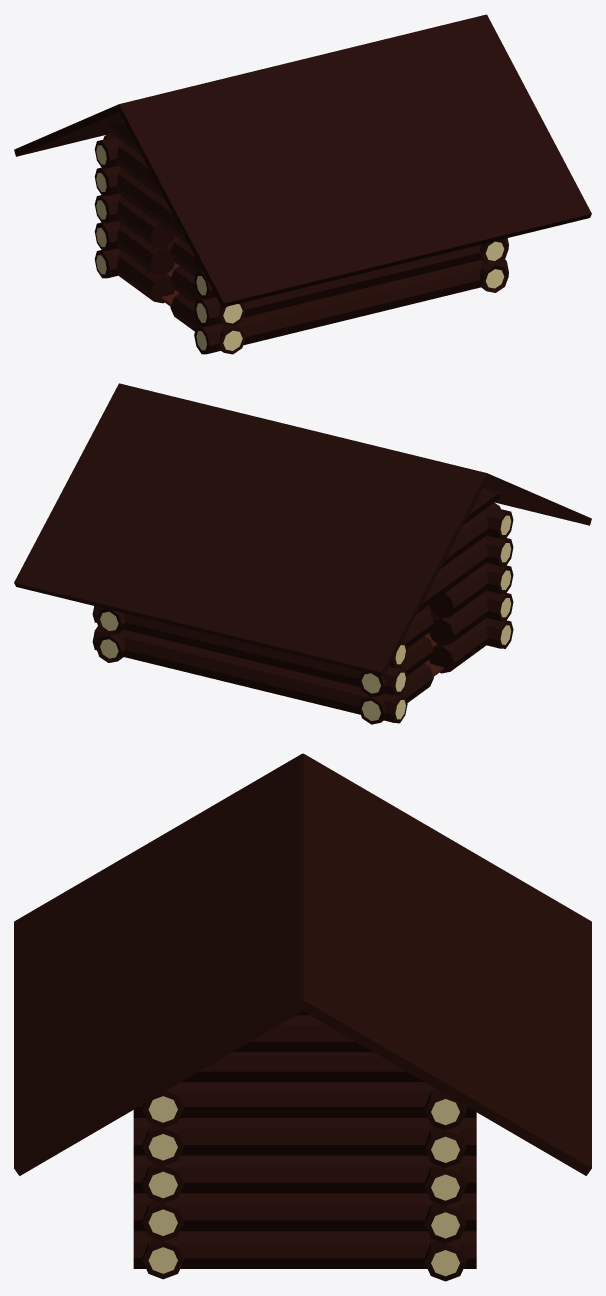
The model's file is log cabin.fbx.
The picture shows the model from 3 angles, top to bottom: view 1: azimuth 30°, elevation 25°; view 2: azimuth 150°, elevation 25°; view 3: azimuth 270°, elevation 25°; orthographic projection. The views are drawn at different scales.
Visible parts, largest first — view 1: Cube.002, Cylinder.004, Cylinder.001, Cylinder.003, Cube.001, Cylinder, Cylinder.002, Cylinder.006; view 2: Cube.001, Cylinder.003, Cylinder.001, Cylinder.004, Cube.002, Cylinder, Cylinder.002, Cylinder.006; view 3: Cube.001, Cube.002, Cylinder, Cylinder.003, Cylinder.004, Cylinder.011, Cylinder.012.
Part boxes in pixels (bbox=[...]): Cube.002: bbox=[119, 15, 591, 307]; Cylinder.004: bbox=[194, 238, 508, 354]; Cylinder.001: bbox=[103, 132, 245, 354]; Cylinder.003: bbox=[94, 137, 179, 278]; Cube.001: bbox=[14, 14, 486, 156]; Cylinder: bbox=[479, 239, 508, 292]; Cylinder.002: bbox=[150, 176, 173, 233]; Cylinder.006: bbox=[103, 119, 141, 155]; Cube.001: bbox=[14, 383, 488, 676]; Cylinder.003: bbox=[92, 606, 407, 723]; Cylinder.001: bbox=[358, 502, 500, 724]; Cylinder.004: bbox=[424, 507, 513, 648]; Cube.002: bbox=[119, 383, 591, 525]; Cylinder: bbox=[95, 608, 125, 662]; Cylinder.002: bbox=[430, 547, 454, 603]; Cylinder.006: bbox=[464, 488, 500, 524]; Cube.001: bbox=[298, 753, 591, 1175]; Cube.002: bbox=[14, 753, 307, 1175]; Cylinder: bbox=[133, 1082, 476, 1268]; Cylinder.003: bbox=[424, 1088, 466, 1281]; Cylinder.004: bbox=[142, 1087, 183, 1279]; Cylinder.011: bbox=[181, 1052, 424, 1082]; Cylinder.012: bbox=[233, 1015, 372, 1052].
Size of the model in its own units: 2803 by 1606 by 2774.
